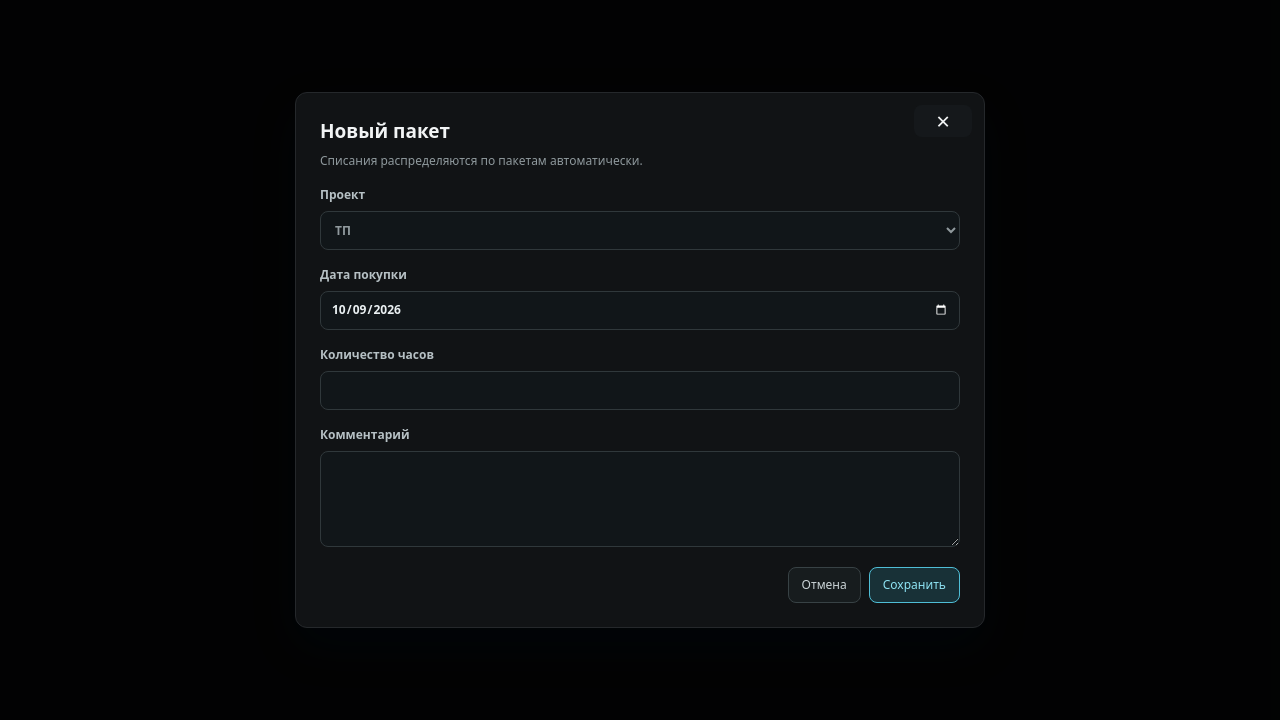
Test case: package form safety and impact › shows field errors and never submits invalid hours
Type "-1" into the field labelled "Количество часов" at (640,390), box left=320, top=371, right=960, bottom=410
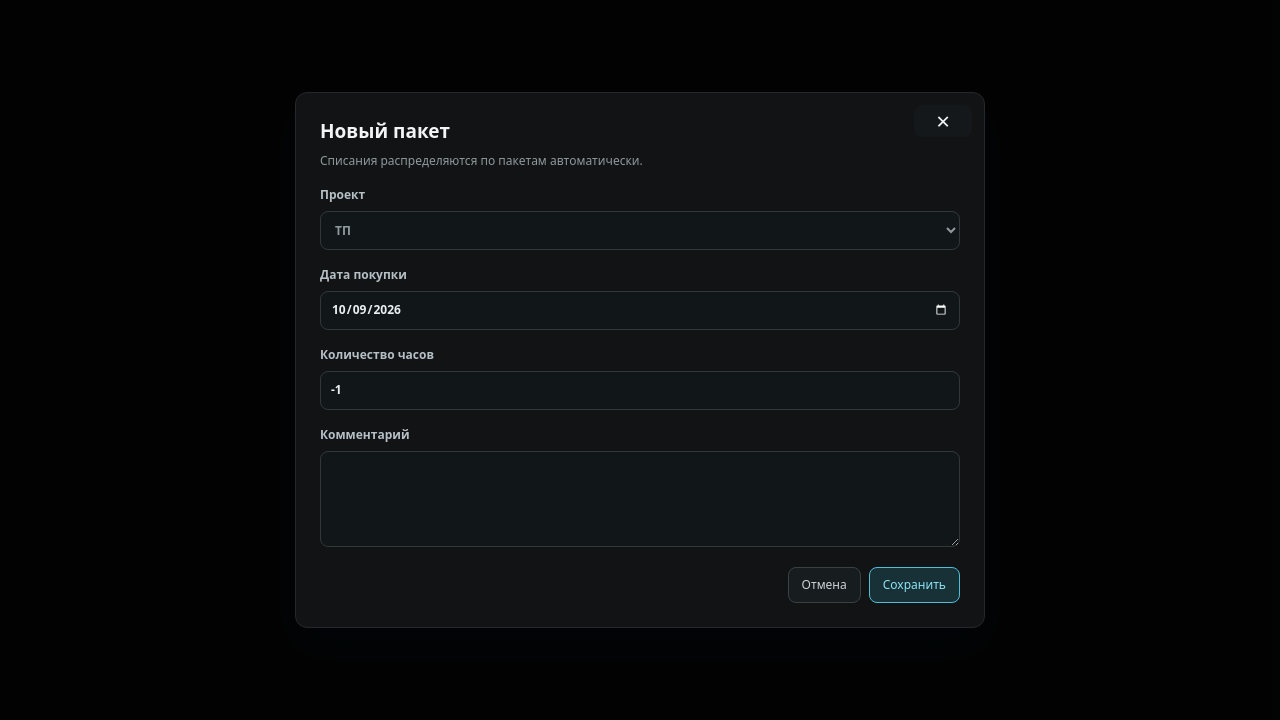
Click the button "Сохранить" at (914,585), box left=869, top=567, right=960, bottom=603
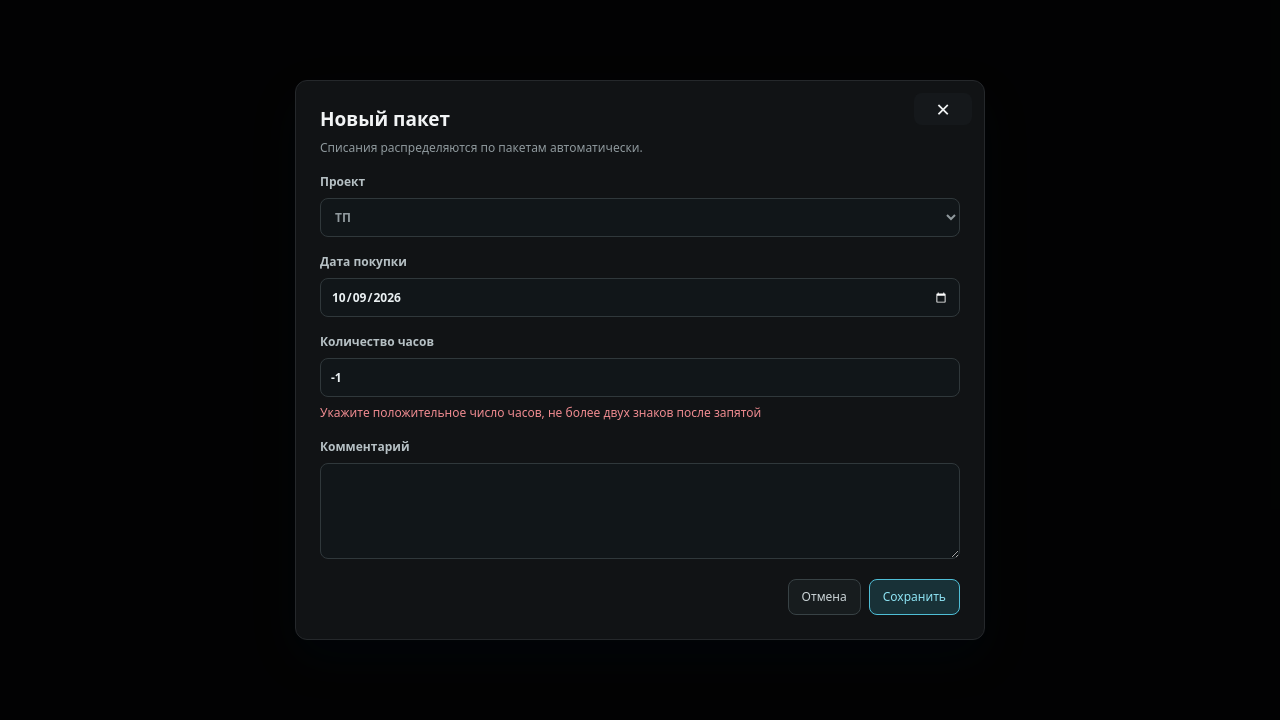
Now the text "Укажите положительное число" is shown, box left=320, top=404, right=761, bottom=421
